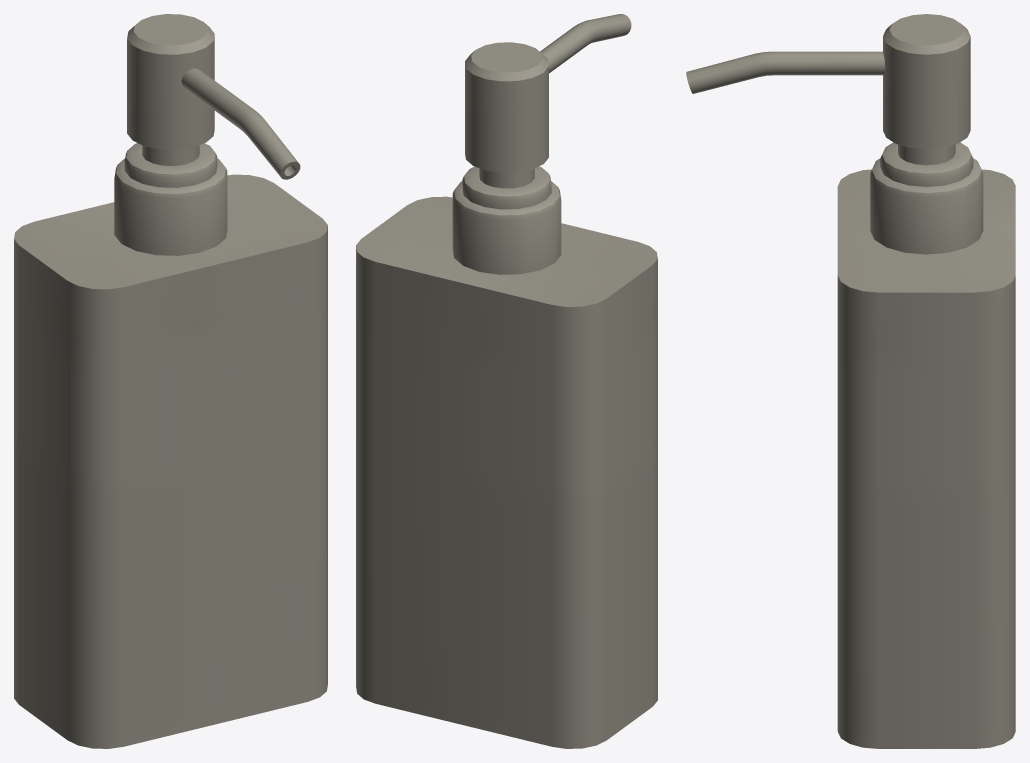
The model's file is soap_dispenser.glb.
3 views of the same model, side by side, from view 1: azimuth 30°, elevation 25°; view 2: azimuth 150°, elevation 25°; view 3: azimuth 270°, elevation 25° (orthographic). The views are drawn at different scales.
Visible parts, largest first — view 1: soap_dispenser; view 2: soap_dispenser; view 3: soap_dispenser.
Boxes of the visible parts, left/top/right/bottom form: soap_dispenser: left=14, top=14, right=327, bottom=748; soap_dispenser: left=356, top=14, right=657, bottom=748; soap_dispenser: left=686, top=14, right=1015, bottom=748.
Size of the model in its own units: 0.0645 by 0.1598 by 0.0726.
Materials: 1 (1 with a texture image).
